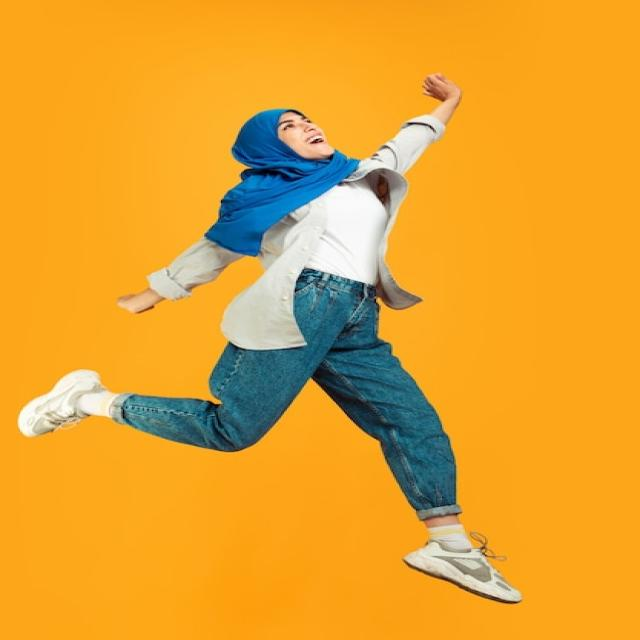Person: (17, 73, 520, 603)
